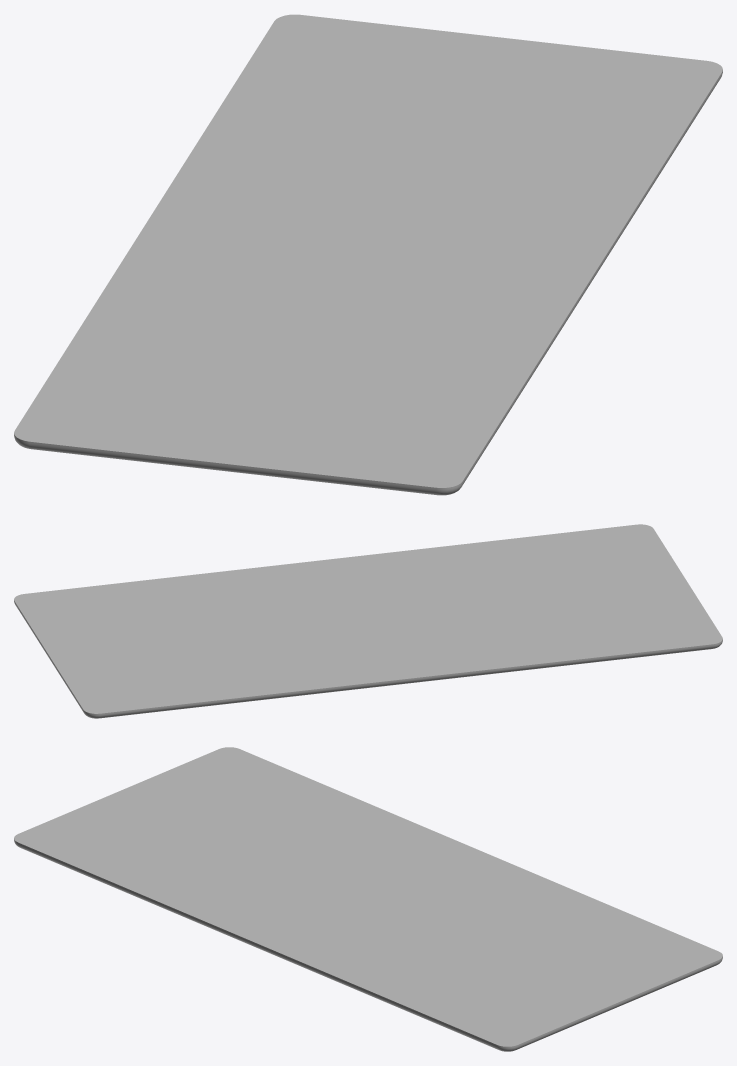
File: diningtable_0208_top.glb
3 renders of one model, top to bottom at view 1: azimuth 30°, elevation 25°; view 2: azimuth 150°, elevation 25°; view 3: azimuth 270°, elevation 25°, orthographic. The views are drawn at different scales.
Parts seen in each view (by area): view 1: diningtable_0208_top; view 2: diningtable_0208_top; view 3: diningtable_0208_top.
Boxes of the visible parts, <box> form: diningtable_0208_top: <box>14,14,722,495</box>; diningtable_0208_top: <box>14,524,722,718</box>; diningtable_0208_top: <box>14,747,722,1051</box>.
Size of the model in its own units: 1.81 by 0.0202 by 1.81.
Materials: 1 (1 with a texture image).
